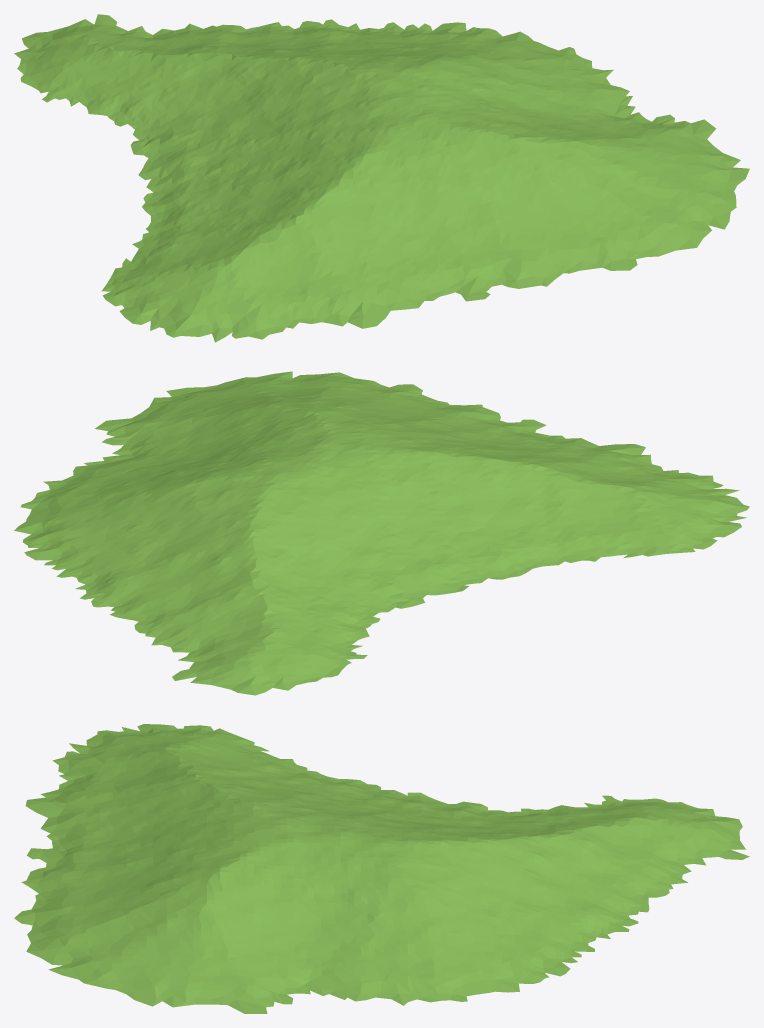
Rendered from MT_Island_H_b_04.fbx.
3 views of the same model, one above another, from view 1: azimuth 30°, elevation 25°; view 2: azimuth 150°, elevation 25°; view 3: azimuth 270°, elevation 25° (orthographic). The views are drawn at different scales.
Visible parts, largest first — view 1: MT_Island_H_b_04; view 2: MT_Island_H_b_04; view 3: MT_Island_H_b_04.
Part boxes in pixels (x1,y1,x2,y2): MT_Island_H_b_04: (14,14,749,342); MT_Island_H_b_04: (14,371,749,695); MT_Island_H_b_04: (14,724,749,1013).
Size of the model in its own units: 40322 by 3549 by 43306.
